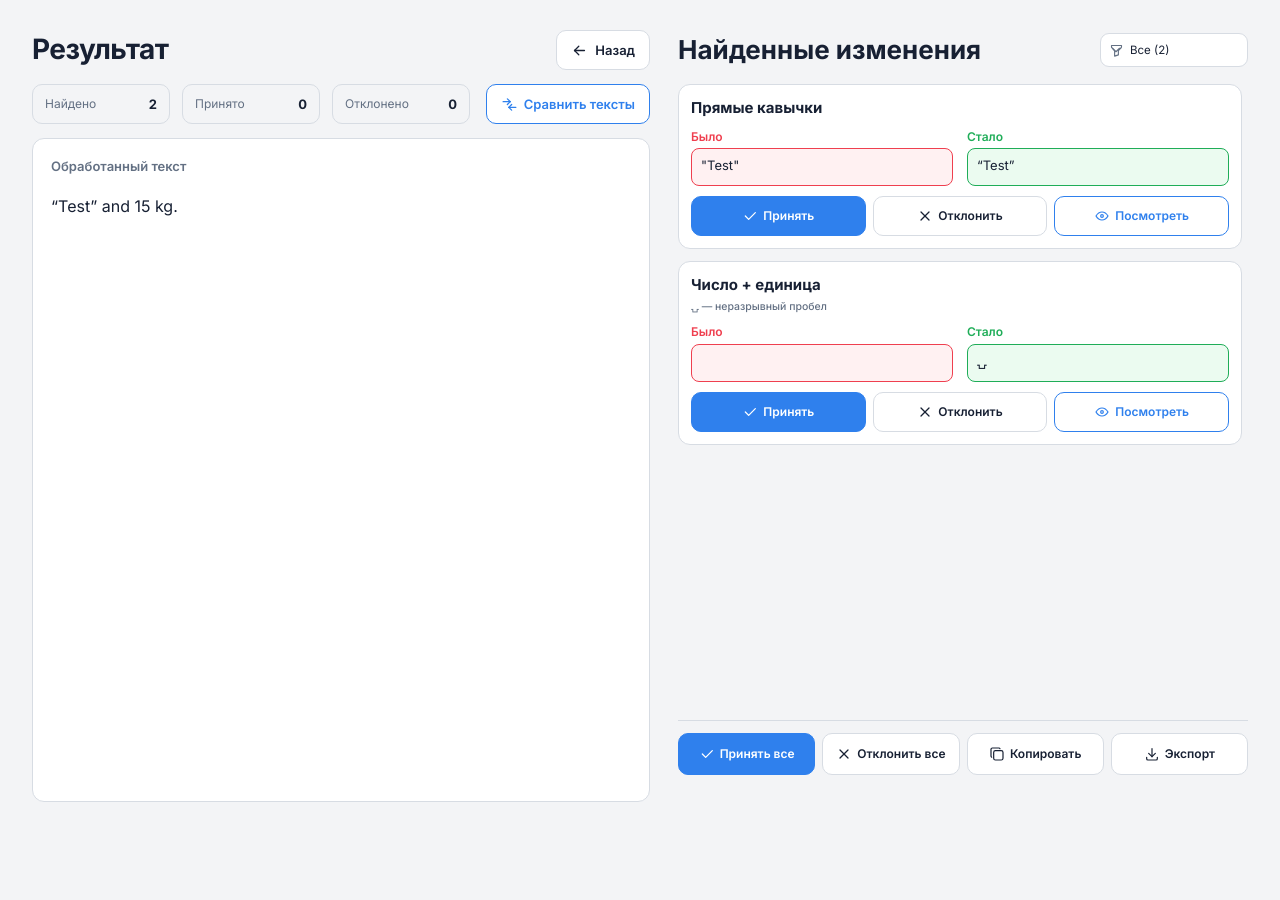
it: Requirement 2: review and decision workflow › individual change can be accepted and rejected
What coordinates should you click on to do the following:
click the button "Принять" below "\"Test\""
I would click on:
 (778, 216)
Its box is [691,196,866,236].
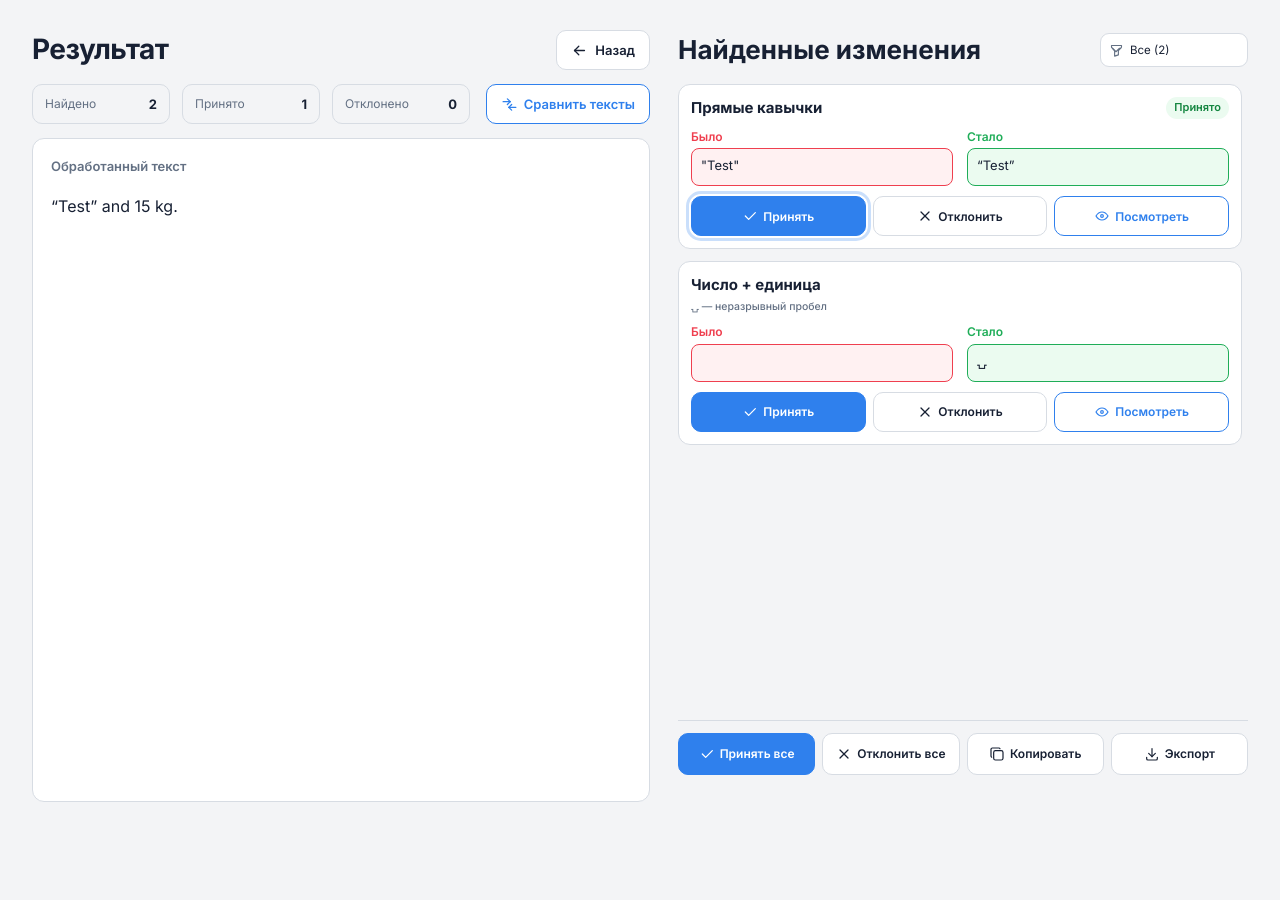
expect the text "Принято" in the row of "Прямые кавычки" is shown: met, box [1174,100,1221,114]
What coordinates should you click on to do the following:
click the button "Отклонить" below "\"Test\""
I would click on:
 (960, 216)
Its box is [873,196,1047,236].
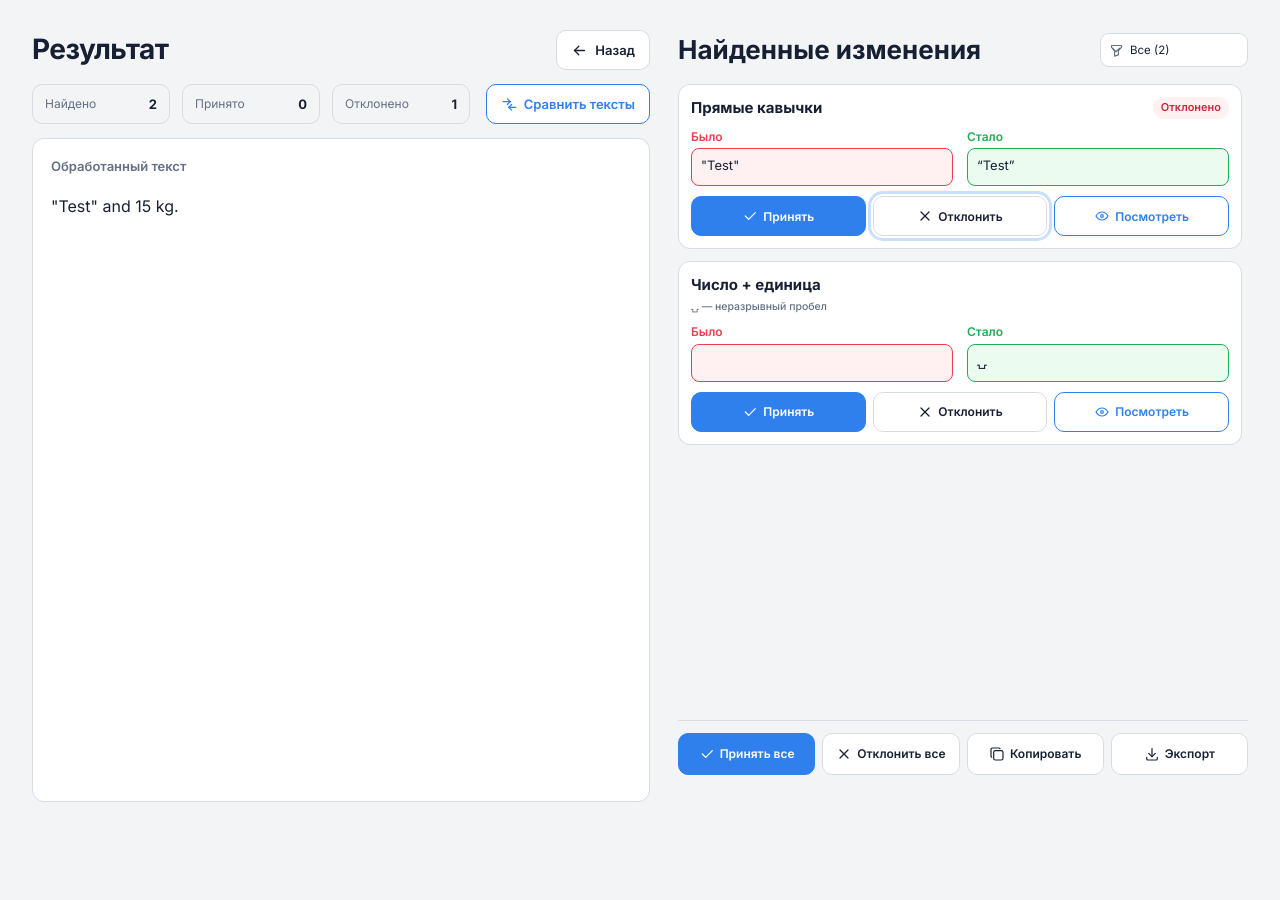
expect the text "Отклонено" in the row of "Прямые кавычки" is shown: met, box [1161,100,1221,114]
